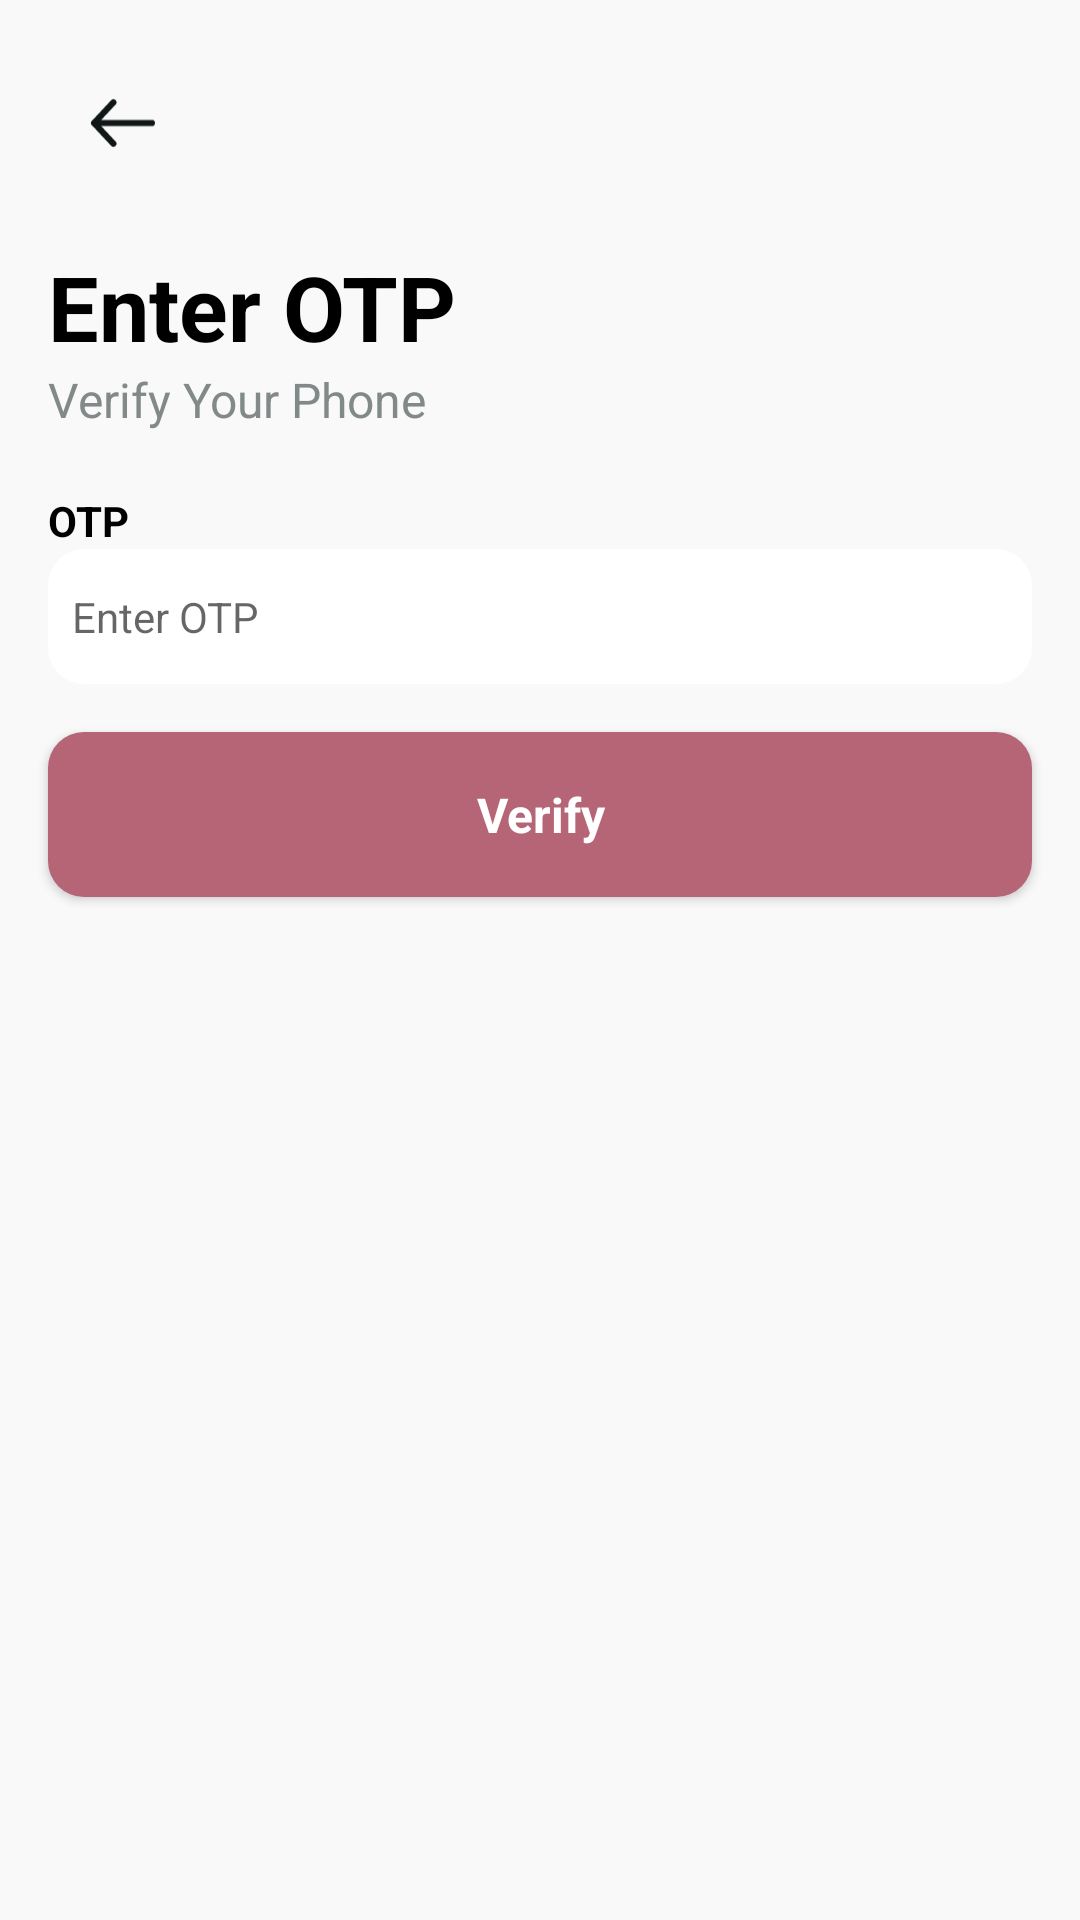

Screen size 1080px×1920px. Icon name, then its center in pixels as [x,y]:
back: [123,123]
